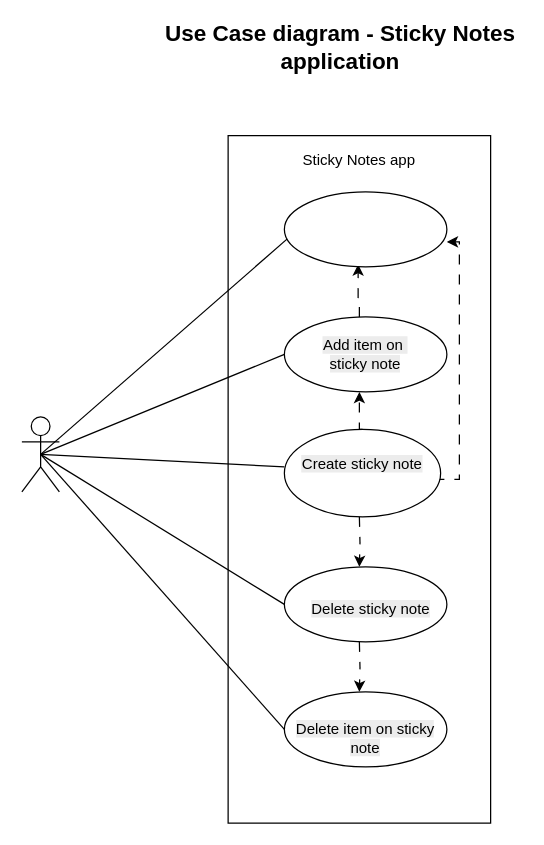
This 544x845 diagram has some shape labels left out. The centre of each missing label's shape, as x and y in pixels:
Update item on sticky note: the point at 365,229
User: the point at 40,454
